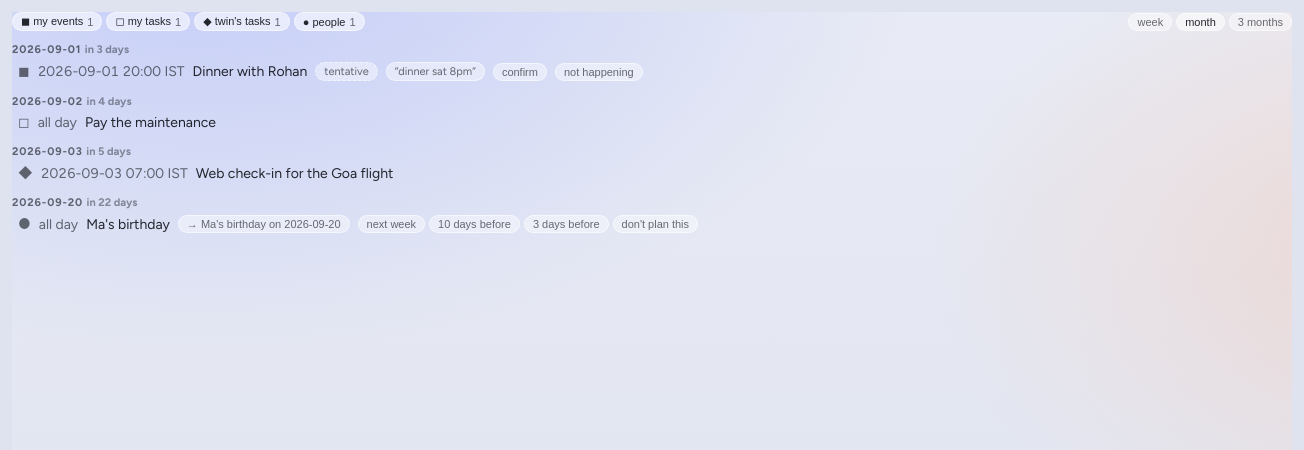
Test: Calendar — lead-time planning (CAL-02) › an opened plan offers the three snooze options and posts the choice
This screenshot has width=1304, height=450.
Expected: the text "Ma's birthday" is shown, [86,216,170,232]
Expected: the button with aria-label "snooze Ma's birthday — next week" is shown, [358,215,425,233]
Click the button with aria-label "snooze Ma's birthday — 10 days before". click: (474, 224)
box: [429,215,520,233]
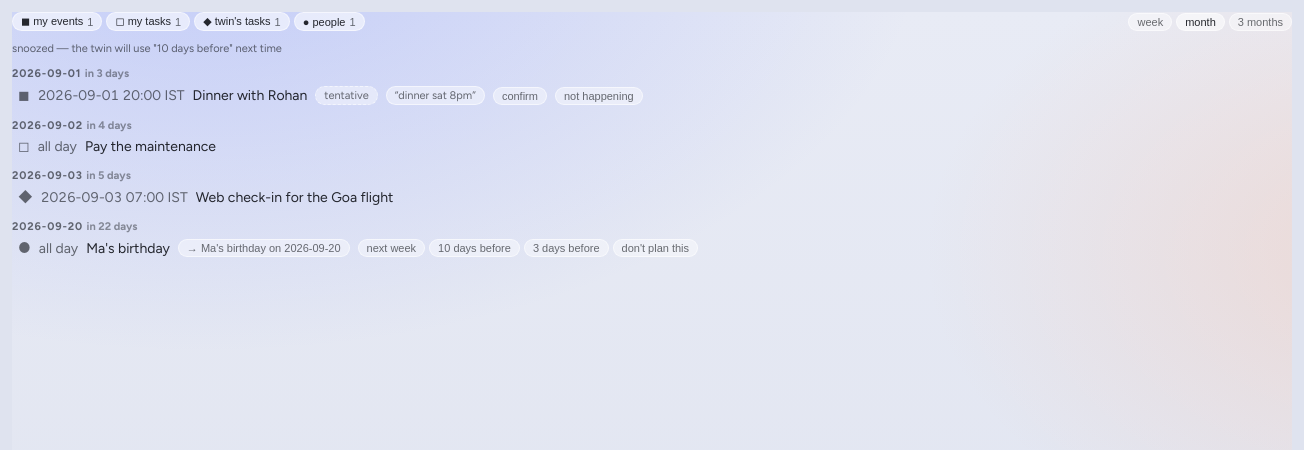
Expected: the message "snoozed — the twin will use \"10 days before\" next time" is shown, [12,42,282,55]
